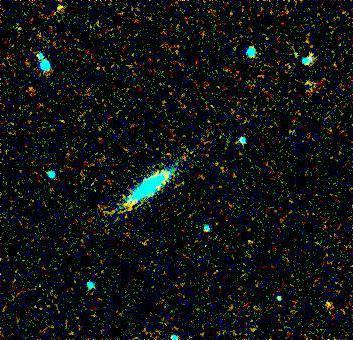star: (312, 289, 342, 319)
